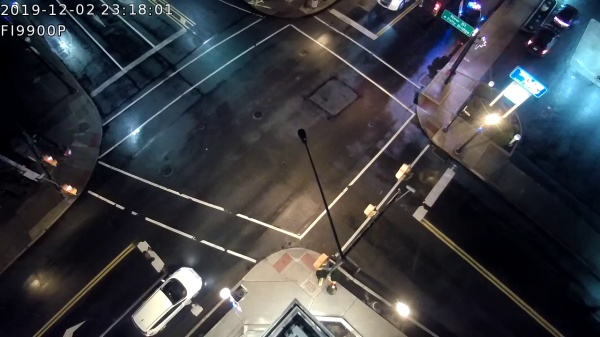car: (134, 265, 203, 337), (529, 22, 560, 56), (455, 1, 483, 38), (555, 3, 580, 30)
